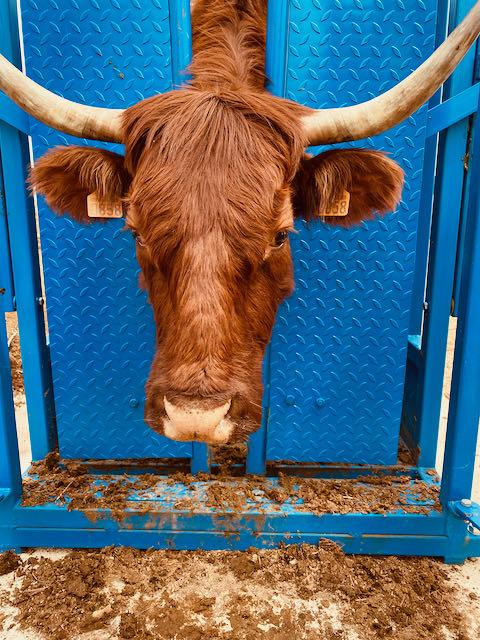muzzles: (141, 386, 261, 447)
